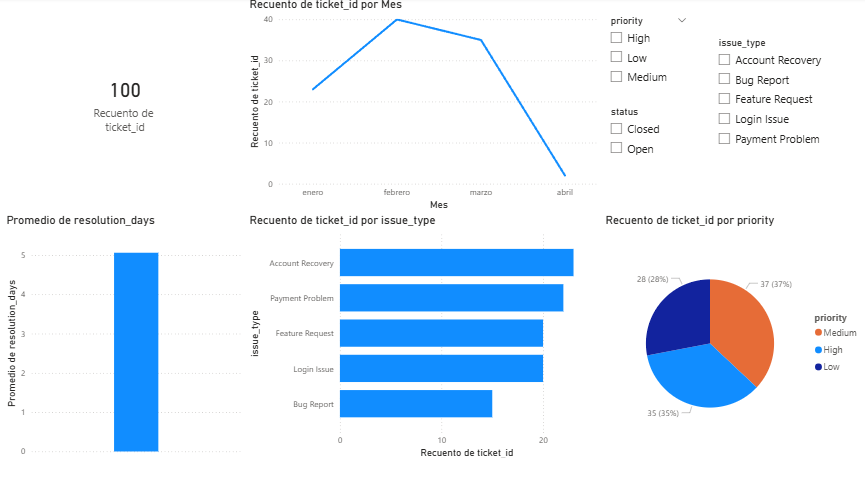

This screenshot's page, from the dashboard's own definition file:
{"tool":"powerbi","page":{"name":"Página 1","canvas":[1280,720],"ordinal":0},"visuals":[{"type":"card","fields":{"Values":["Count(support_tickets.ticket_id)"]},"box":[110.2,66.1,158.7,158.7],"z":0},{"type":"clusteredColumnChart","fields":{"Y":["Avg(support_tickets.resolution_days)"]},"box":[10.3,317.4,357.1,364.4],"z":1000},{"type":"clusteredBarChart","fields":{"Category":["support_tickets.issue_type"],"Y":["CountNonNull(support_tickets.ticket_id)"]},"box":[367.3,317.4,523.1,364.4],"z":1001},{"type":"pieChart","fields":{"Category":["support_tickets.priority"],"Y":["CountNonNull(support_tickets.ticket_id)"]},"box":[890.4,317.4,389.4,364.4],"z":1002},{"type":"lineChart","fields":{"Category":["support_tickets.created_date.Variación.Jerarquía de fechas.Mes"],"Y":["CountNonNull(support_tickets.ticket_id)"]},"box":[367.3,0,523.1,317.4],"z":1003},{"type":"slicer","fields":{"Values":["support_tickets.priority"]},"box":[890.4,22,136.7,123.4],"z":1004},{"type":"slicer","fields":{"Values":["support_tickets.issue_type"]},"box":[1049.1,54.4,189.6,180.7],"z":1005},{"type":"slicer","fields":{"Values":["support_tickets.status"]},"box":[890.4,155.8,136.7,94],"z":1006}]}

Visuals, with their boxes in screenshot pixels (x1, y1, x2, y2), scaled from the page's 1280x720 canvas onto the 865x480 screenshot:
card - Count(support_tickets.ticket_id): x1=74, y1=44, x2=182, y2=150
clusteredColumnChart - Avg(support_tickets.resolution_days): x1=7, y1=212, x2=248, y2=455
clusteredBarChart - support_tickets.issue_type x CountNonNull(support_tickets.ticket_id): x1=248, y1=212, x2=602, y2=455
pieChart - support_tickets.priority x CountNonNull(support_tickets.ticket_id): x1=602, y1=212, x2=864, y2=455
lineChart - support_tickets.created_date.Variación.Jerarquía de fechas.Mes x CountNonNull(support_tickets.ticket_id): x1=248, y1=0, x2=602, y2=212
slicer - support_tickets.priority: x1=602, y1=15, x2=694, y2=97
slicer - support_tickets.issue_type: x1=709, y1=36, x2=837, y2=157
slicer - support_tickets.status: x1=602, y1=104, x2=694, y2=167
